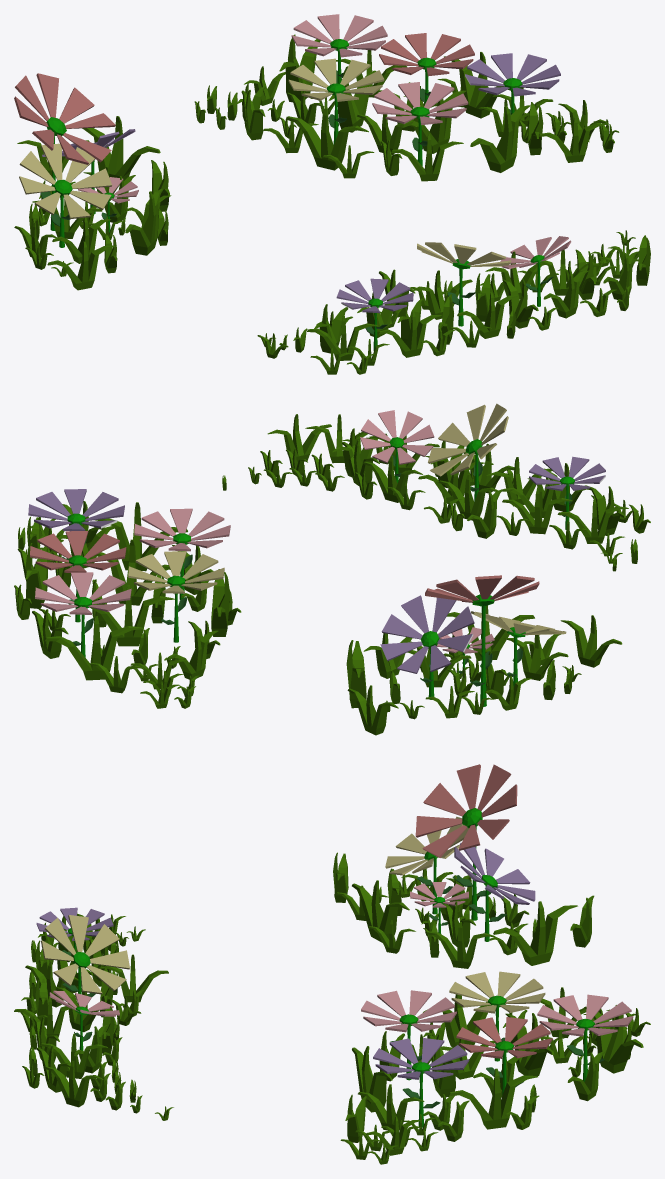
File: hierba.fbx
The picture shows the model from 3 angles, top to bottom: view 1: azimuth 30°, elevation 25°; view 2: azimuth 150°, elevation 25°; view 3: azimuth 270°, elevation 25°; orthographic projection. The views are drawn at different scales.
Parts seen in each view (by area): view 1: pCube7.001, pCube7.037, pCube8.002; view 2: pCube7.001, pCube7.037, pCube8.002; view 3: pCube7.001, pCube8.002, pCube7.037.
Part boxes in pixels (left/top/right/bottom): pCube7.001: left=194, top=14, right=619, bottom=181; pCube7.037: left=257, top=230, right=650, bottom=374; pCube8.002: left=14, top=73, right=171, bottom=290; pCube7.001: left=14, top=489, right=241, bottom=708; pCube7.037: left=222, top=403, right=650, bottom=571; pCube8.002: left=346, top=575, right=622, bottom=735; pCube7.001: left=340, top=971, right=650, bottom=1164; pCube8.002: left=333, top=764, right=594, bottom=968; pCube7.037: left=14, top=907, right=173, bottom=1120.
Bounding box in the file's own units: 182 × 43.56 × 175.
